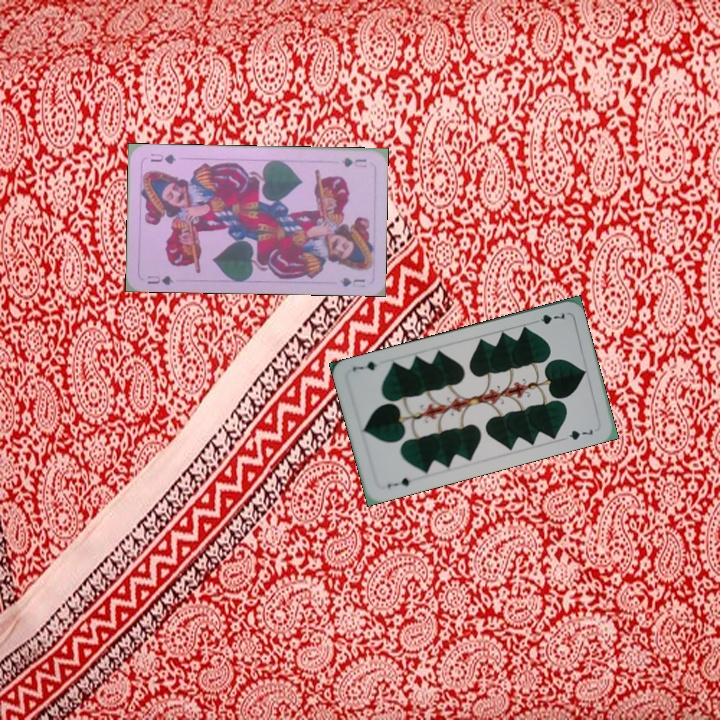G7: (528, 308, 567, 327), (383, 474, 418, 491)
GU: (144, 272, 176, 288), (338, 154, 369, 170)
